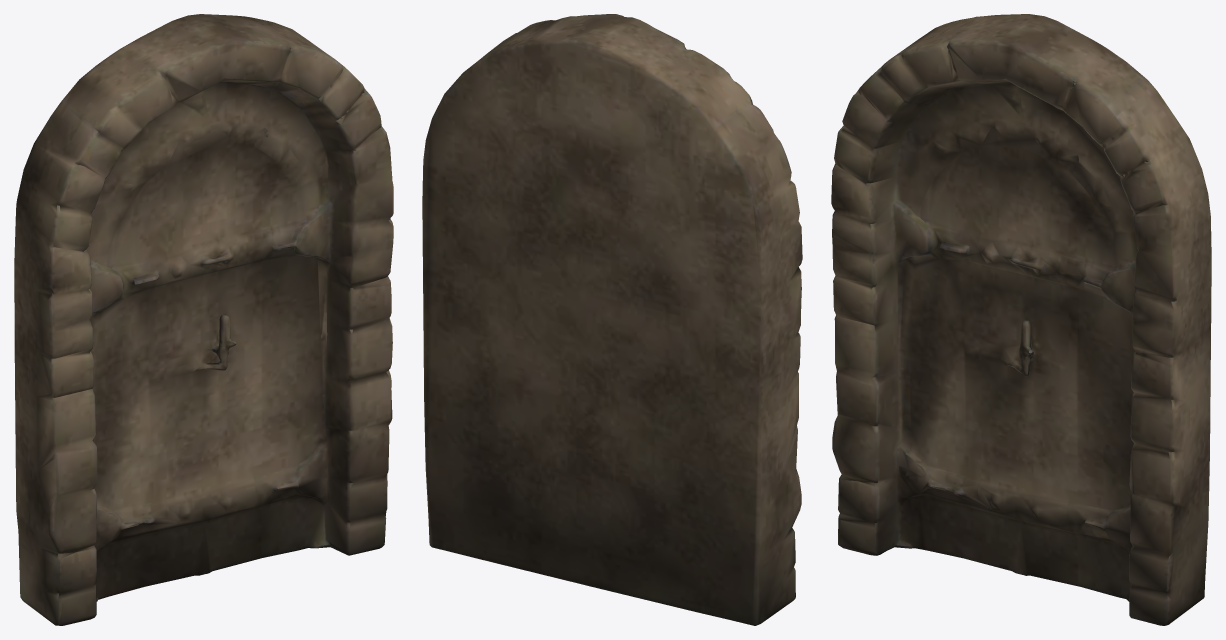
File: rustic-wood-castle-door-v002.glb
The picture shows the model from 3 angles, left to right: view 1: azimuth 30°, elevation 25°; view 2: azimuth 150°, elevation 25°; view 3: azimuth 330°, elevation 25°; orthographic projection.
Visible parts, largest first — view 1: rustic-wood-castle-door; view 2: rustic-wood-castle-door; view 3: rustic-wood-castle-door.
Part boxes in pixels (box(x1,y1,x2,y2)): rustic-wood-castle-door: box(14, 14, 393, 625); rustic-wood-castle-door: box(422, 14, 802, 625); rustic-wood-castle-door: box(831, 14, 1211, 625).
Size of the model in its own units: 1.75 by 2.64 by 0.3565.
Materials: 1 (1 with a texture image).
